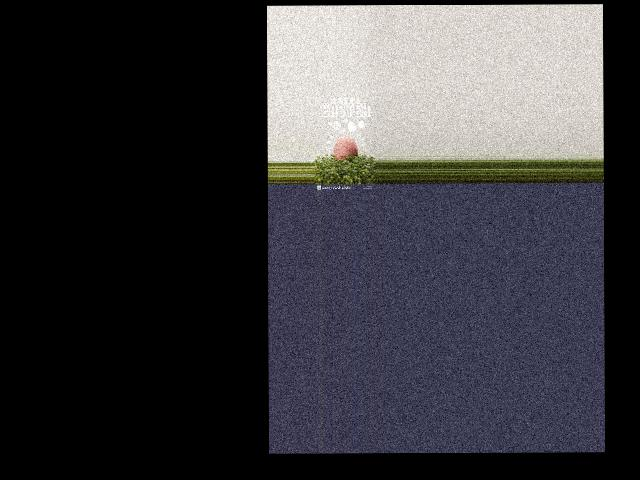egg: (334, 136, 359, 160)
